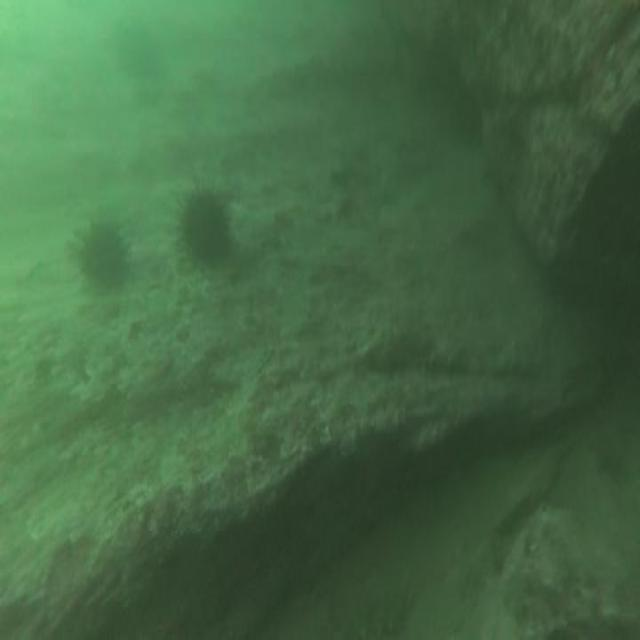echinus: (173, 175, 234, 272), (77, 212, 129, 294)
holothurian: (297, 565, 417, 640)
